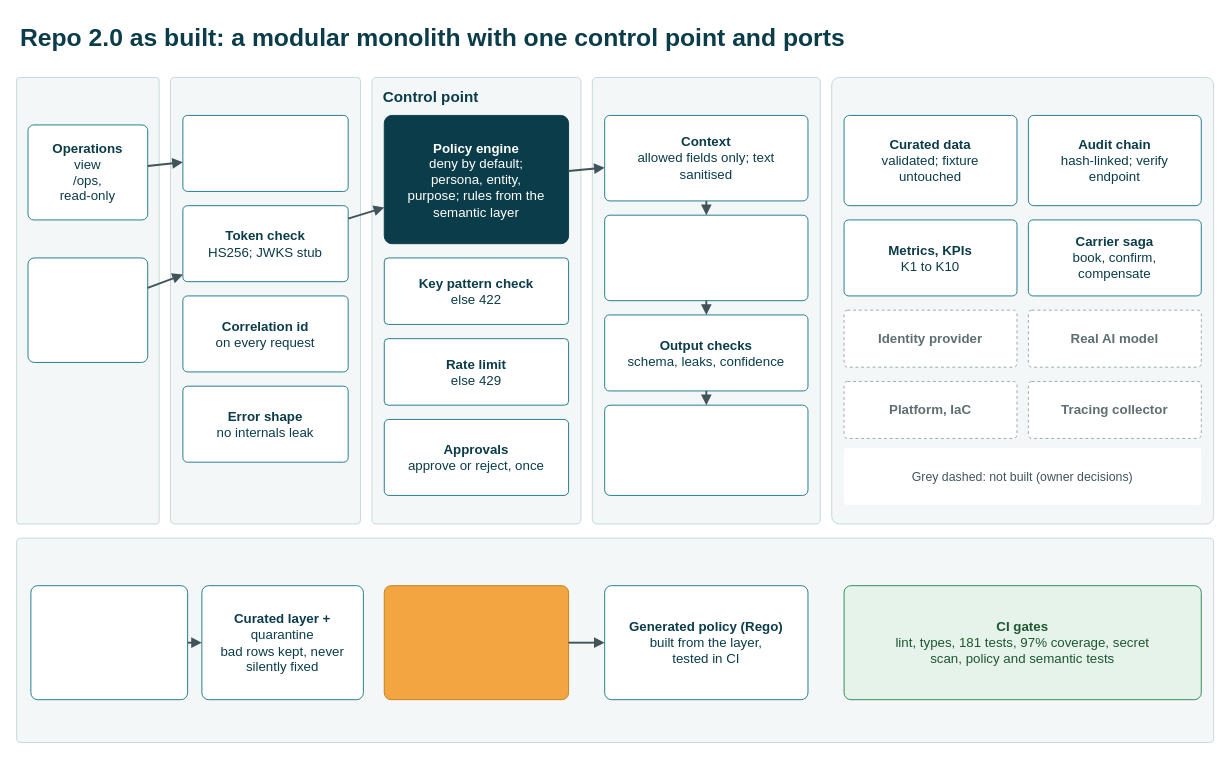
Image size: 1230x759. Some labels were removed from this diagram. Each missing label, with the box of its shape:
AI gateway (suggest-only): (591, 76, 820, 524)
API client bearer token: who, role, purpose: (27, 257, 148, 362)
API layer: (170, 76, 361, 524)
Batch, definitions and gates: (16, 537, 1214, 742)
Callers: (16, 76, 159, 524)
ETL intake same rules as the API: (30, 585, 188, 700)
Fallback, then abstain never an invalid answer: (604, 404, 808, 495)
Ports and adapters: (831, 76, 1214, 524)
Producer deterministic; model slot empty: (604, 214, 808, 301)
Routes 10 operations: (182, 114, 348, 191)
Semantic layer v2.0 feeds policy, ETL rules and AI rules: (383, 585, 569, 700)
